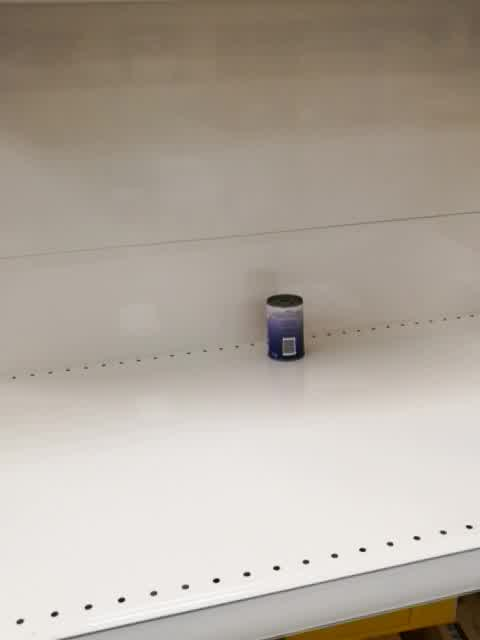sardine: (265, 293, 306, 363)
